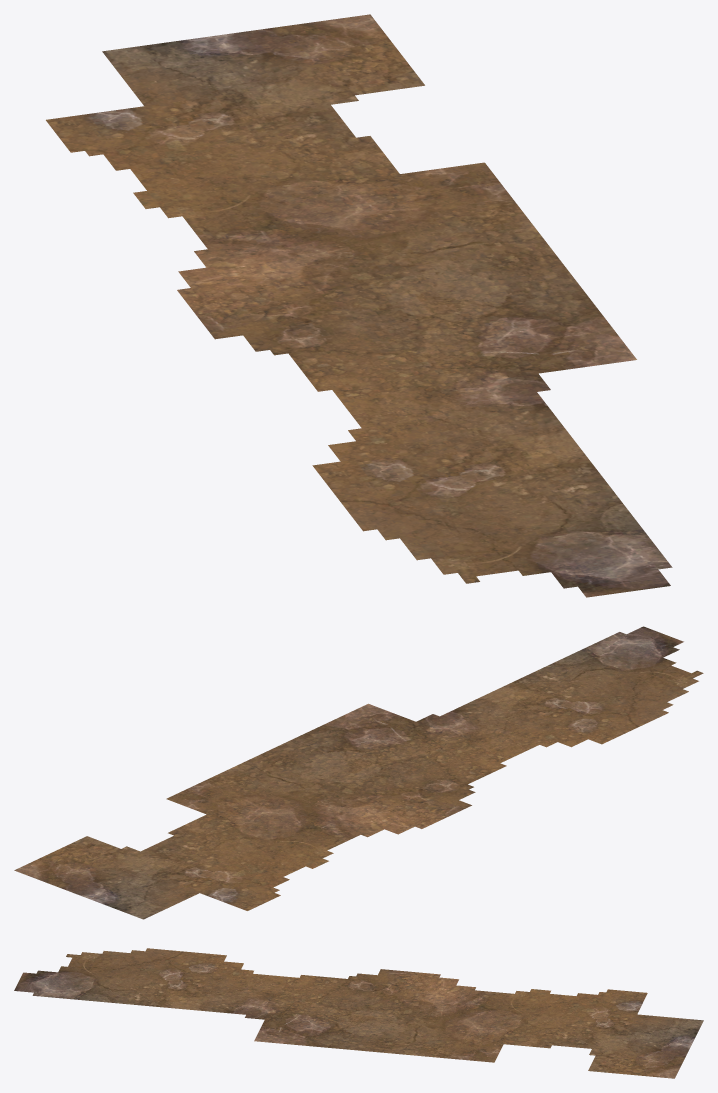
Rendered from Map_GrandYork_Battle02_NaviMap.fbx.
The picture shows the model from 3 angles, top to bottom: view 1: azimuth 30°, elevation 25°; view 2: azimuth 150°, elevation 25°; view 3: azimuth 270°, elevation 25°; orthographic projection. The views are drawn at different scales.
Parts seen in each view (by area): view 1: 평면; view 2: 평면; view 3: 평면.
Boxes of the visible parts, x1,y1,x2,y2 form: 평면: (46,14,672,597); 평면: (14,626,703,919); 평면: (14,948,703,1078).
Bounding box in the file's own units: 8100 × 0.00295 × 18092.
Materials: 1 (1 with a texture image).
